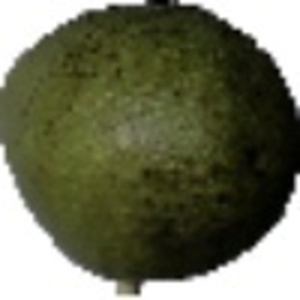abacate: (1, 2, 295, 278)
